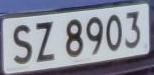0: (105, 9, 125, 55)
3: (124, 8, 143, 53)
8: (61, 15, 87, 62)
9: (84, 12, 107, 59)
S: (10, 21, 36, 66)
Z: (33, 18, 58, 64)
